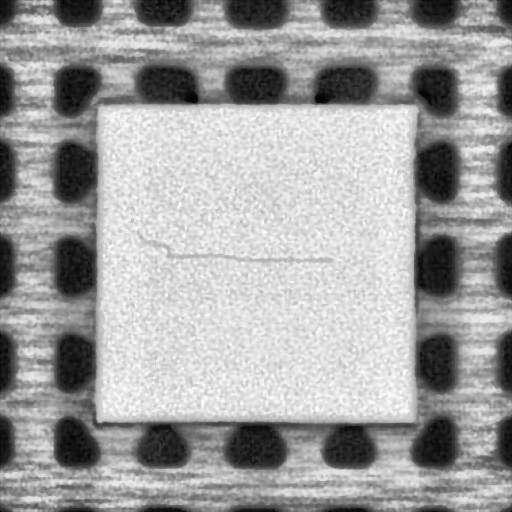DIE_CRACK: (131, 226, 336, 264)
